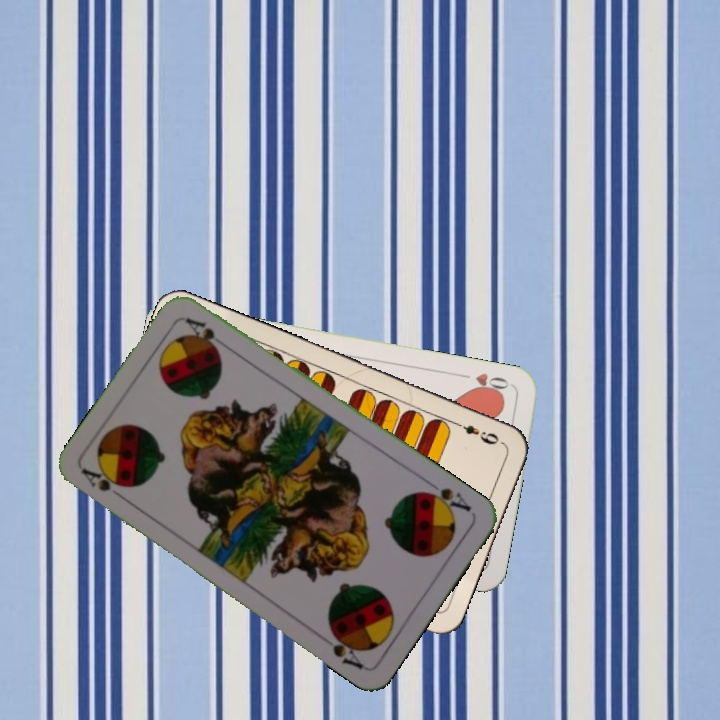E9: (449, 417, 502, 448)
HO: (455, 369, 512, 398)
SA: (417, 476, 474, 517), (78, 463, 130, 505)
